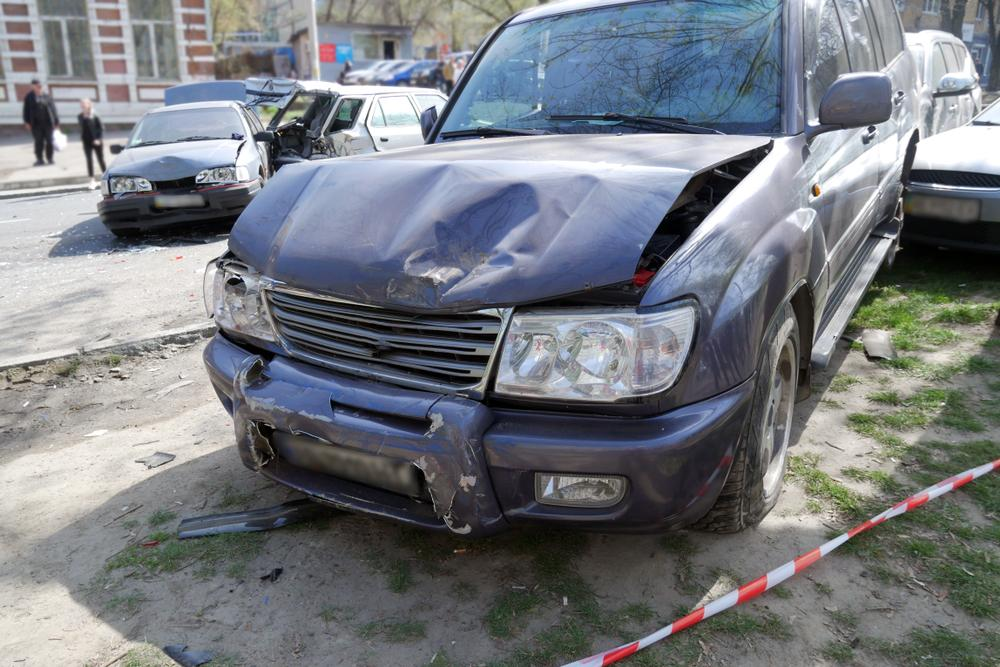crack: (256, 420, 275, 456)
dent: (367, 161, 591, 309), (130, 155, 200, 181)
lamp broken: (208, 258, 281, 346)
scratch: (239, 387, 326, 422)
tire flat: (697, 302, 800, 532)
